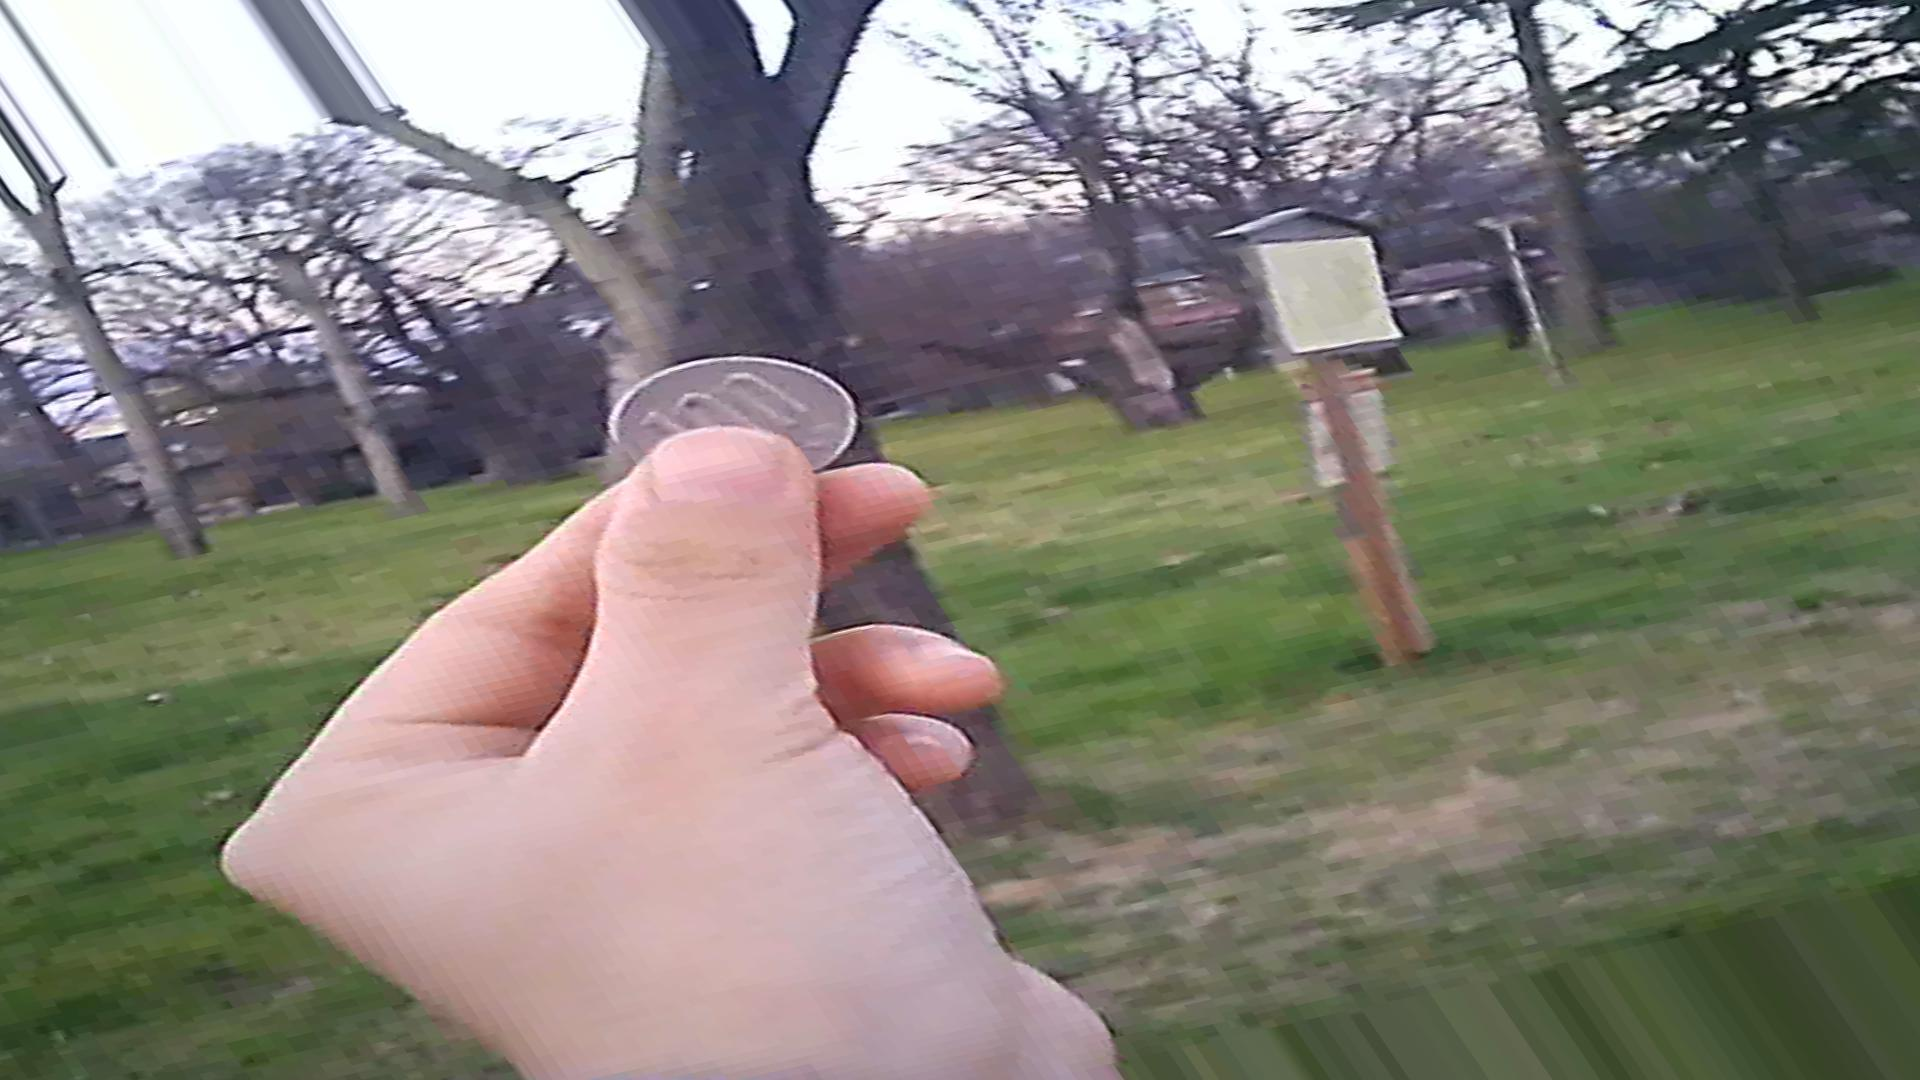100 Yen: (591, 355, 851, 480)
